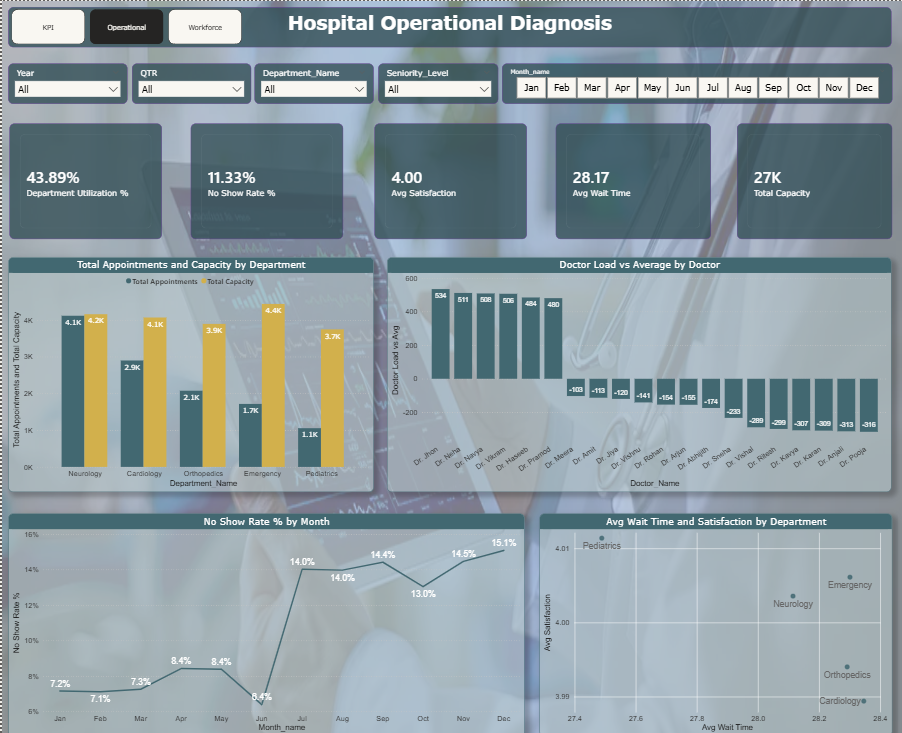

What the dashboard file says about the page in this screenshot:
{"tool":"powerbi","page":{"name":"Operational","canvas":[1800,1500],"ordinal":1},"visuals":[{"type":"clusteredColumnChart","title":"Total Appointments and Capacity by Department","fields":{"Y":["Measures_.Total Appointments","Measures_.Total Capacity"],"Category":["Dim_Departments_v4 (2).Department_Name"]},"box":[13.4,512.9,730.9,469.4],"z":0},{"type":"lineChart","title":"No Show Rate % by Month","fields":{"Category":["Date_Master.Month_name"],"Y":["Measures_.No Show Rate %"]},"box":[13.4,1024.2,1032.6,445.9],"z":1000},{"type":"scatterChart","title":"Avg Wait Time and Satisfaction by Department","fields":{"X":["Measures_.Avg Wait Time"],"Y":["Measures_.Avg Satisfaction"],"Category":["Dim_Departments_v4 (2).Department_Name"]},"box":[1074.5,1024.2,705.7,445.9],"z":2000},{"type":"textbox","box":[13.3,11.7,1766.7,80],"z":3000},{"type":"slicer","fields":{"Values":["Date_Master.Year"]},"box":[13.4,125.7,238,80.5],"z":4000},{"type":"slicer","fields":{"Values":["Date_Master.QTR"]},"box":[259.8,125.7,238,80.5],"z":5000},{"type":"slicer","fields":{"Values":["Dim_Departments_v4.Department_Name"]},"box":[506.2,125.7,238,80.5],"z":6000},{"type":"slicer","fields":{"Values":["Dim_Doctors_v4.Seniority_Level"]},"box":[752.7,125.7,239.7,80.5],"z":7000},{"type":"slicer","fields":{"Values":["Date_Master.Month_name"]},"box":[999.1,125.7,781.2,80.5],"z":8000},{"type":"cardVisual","fields":{"Data":["Measures_.No Show Rate %"]},"box":[377.2,244.7,305.1,231.3],"z":9000},{"type":"cardVisual","fields":{"Data":["Measures_.Avg Satisfaction"]},"box":[744.3,244.7,305.1,231.3],"z":10000},{"type":"cardVisual","fields":{"Data":["Measures_.Avg Wait Time"]},"box":[1108,244.7,310.1,231.3],"z":11000},{"type":"cardVisual","fields":{"Data":["Measures_.Total Capacity"]},"box":[1470.1,244.7,310.1,231.3],"z":12000},{"type":"columnChart","title":"Doctor Load vs Average by Doctor","fields":{"Category":["Dim_Doctors_v4.Doctor_Name"],"Y":["Measures_.Doctor Load vs Avg"]},"box":[771.1,512.9,1009.1,469.4],"z":13000},{"type":"cardVisual","fields":{"Data":["Measures_.Department Utilization %"]},"box":[15.1,244.7,305.1,231.3],"z":14000},{"type":"pageNavigator","box":[15,11.7,470,78.3],"z":15000}]}

Visuals, with their boxes in screenshot pixels (x1, y1, x2, y2), scaled from the page's 1800x1500 canvas onto the 902x733 screenshot:
"Total Appointments and Capacity by Department" clusteredColumnChart: 7, 251, 373, 480
"No Show Rate % by Month" lineChart: 7, 500, 524, 718
"Avg Wait Time and Satisfaction by Department" scatterChart: 538, 500, 892, 718
textbox: 7, 6, 892, 45
slicer - Date_Master.Year: 7, 61, 126, 101
slicer - Date_Master.QTR: 130, 61, 249, 101
slicer - Dim_Departments_v4.Department_Name: 254, 61, 373, 101
slicer - Dim_Doctors_v4.Seniority_Level: 377, 61, 497, 101
slicer - Date_Master.Month_name: 501, 61, 892, 101
cardVisual - Measures_.No Show Rate %: 189, 120, 342, 233
cardVisual - Measures_.Avg Satisfaction: 373, 120, 526, 233
cardVisual - Measures_.Avg Wait Time: 555, 120, 711, 233
cardVisual - Measures_.Total Capacity: 737, 120, 892, 233
"Doctor Load vs Average by Doctor" columnChart: 386, 251, 892, 480
cardVisual - Measures_.Department Utilization %: 8, 120, 160, 233
pageNavigator: 8, 6, 243, 44
